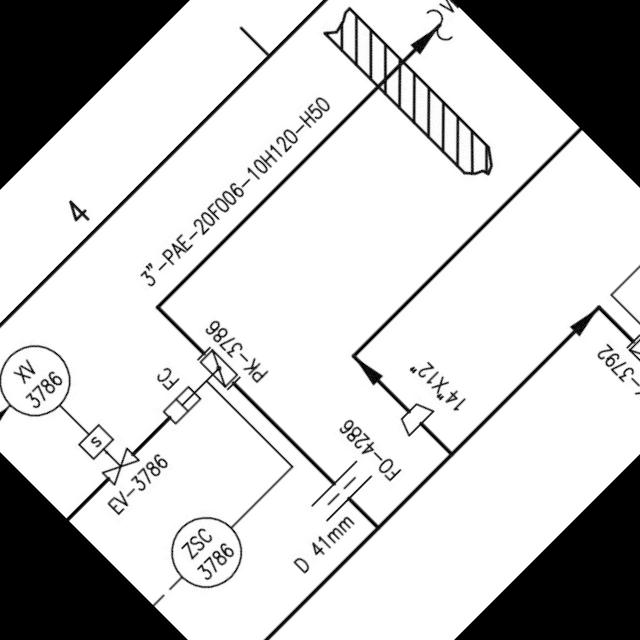BV: (613, 304, 640, 385)
BVWA: (146, 340, 246, 440)
O: (300, 452, 378, 530)
SP: (386, 391, 440, 445)
SV: (64, 412, 143, 491)
